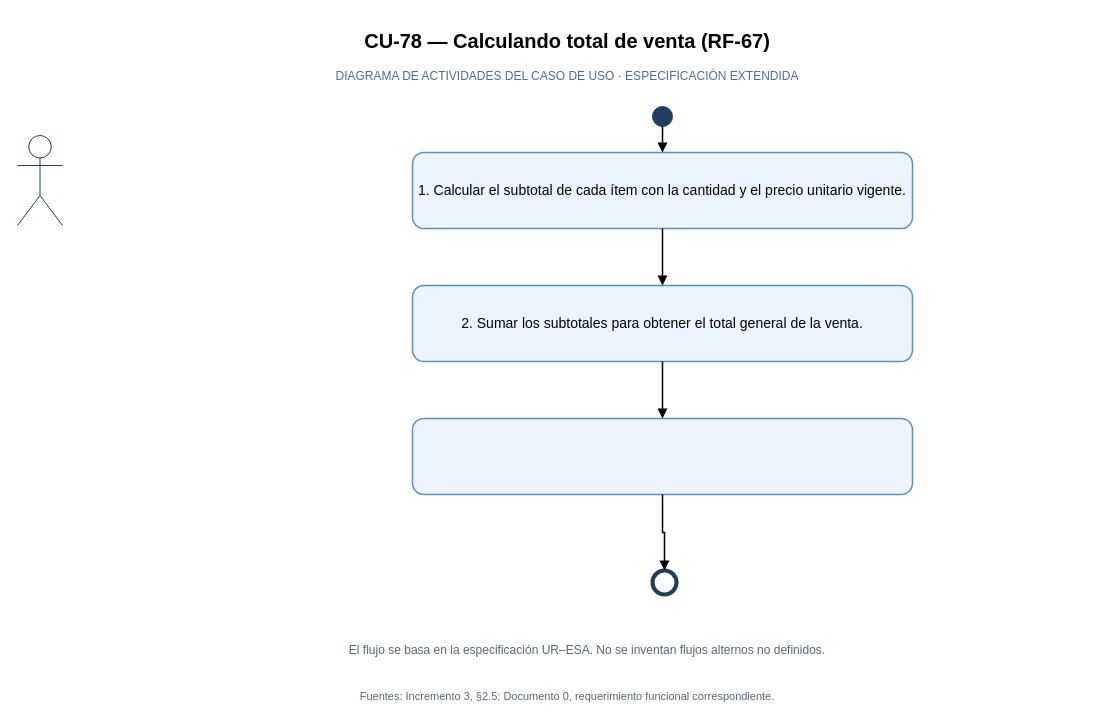
Some shapes in this 1105 by 725 pixel diagram are drawn without their labels. The centre of each missing label's shape, as x and y in pixels:
"3. Mostrar el total actualizado antes del registro del pago." goes at (x=662, y=456).
"Cajero" goes at (x=39, y=180).
